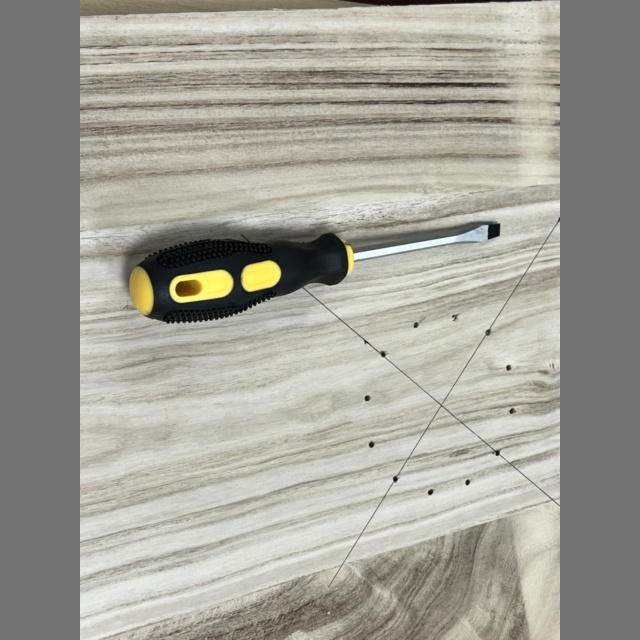screwdriver: (129, 223, 500, 323)
